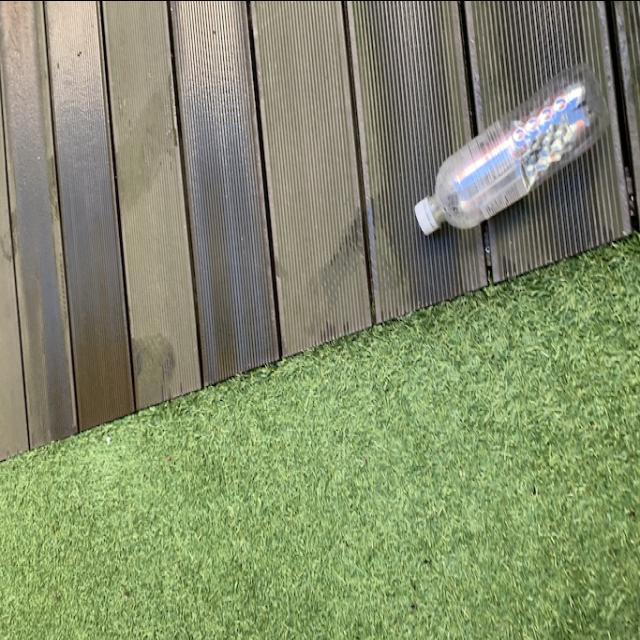PET: (416, 59, 616, 235)
